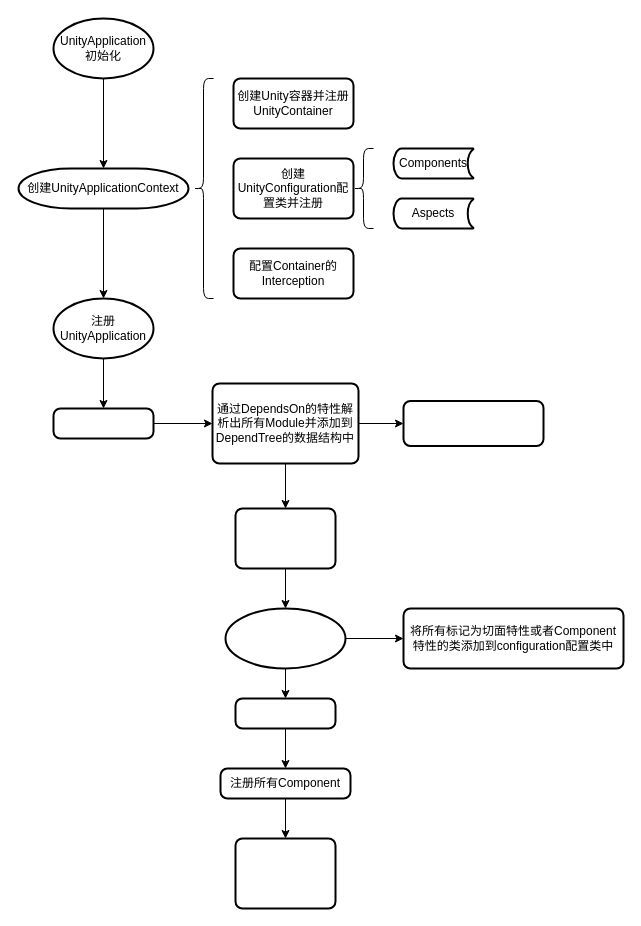
This 641x926 diagram has some shape labels left out. Here are the shapes that lost their labels. From the top down, the centre of each, then its label:
the point at 103,423: Initialize
the point at 473,423: 对依赖树中的Modile按照依赖顺序进行排序
the point at 285,538: 从依赖树中取出这些Module并实例化(单例)
the point at 285,638: 每个实例首先进行PreInitialize
the point at 285,713: 注册所有切面
the point at 285,873: 每个Module进行Initialize和PostInitialize
